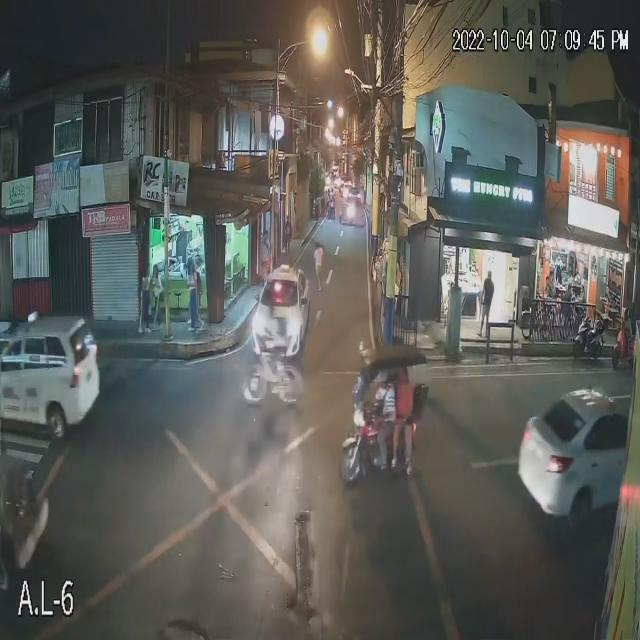motorcycle: (572, 311, 611, 362), (611, 322, 640, 370)
